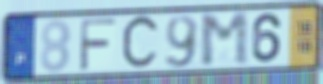6: (251, 12, 283, 65)
8: (38, 17, 74, 75)
9: (163, 14, 203, 70)
C: (120, 12, 162, 74)
F: (77, 17, 119, 73)
M: (198, 10, 251, 69)
